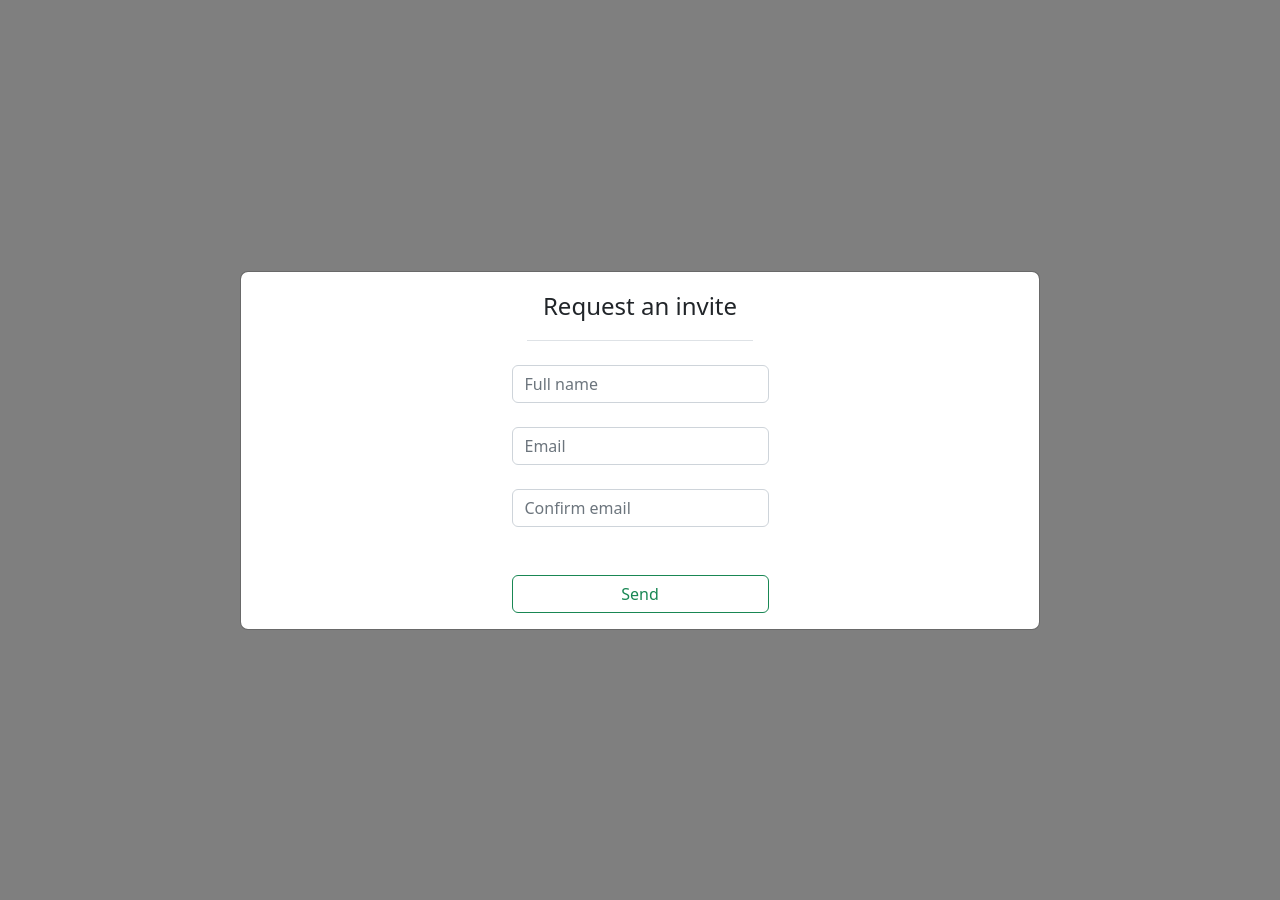
Test case: test full name should have at least 3 characters
The width and height of the screenshot is (1280, 900).
Type "An" into the field with placeholder "Full name". click: point(640, 384)
box: [512,364,768,402]
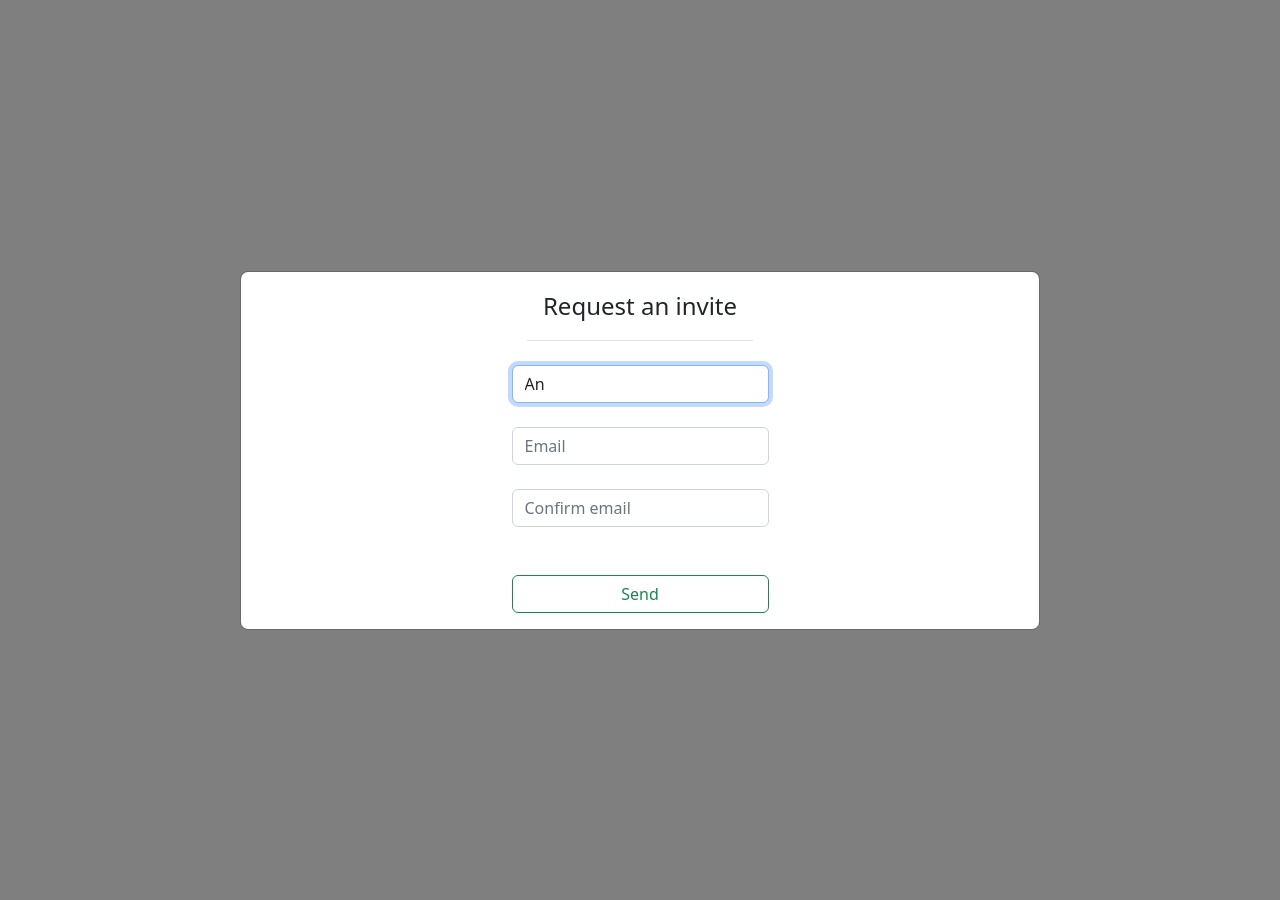
Click the button. click: point(640, 594)
box: [512,574,768,612]
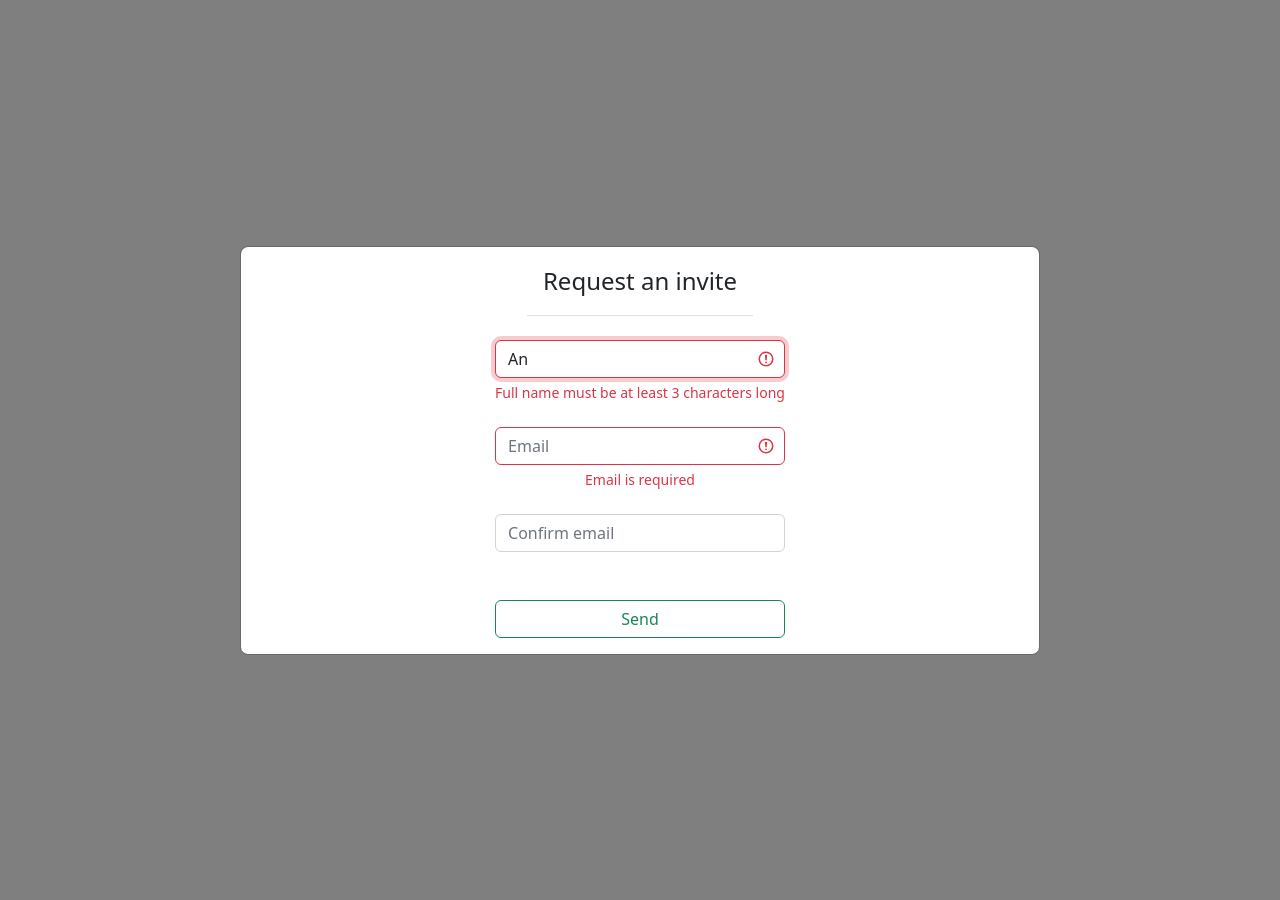
Check: the text "Full name must be at least 3 characters long" is shown, box [495,382,785,402]
